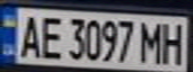0: (81, 16, 103, 62)
3: (63, 15, 87, 61)
7: (115, 17, 139, 63)
9: (100, 17, 121, 62)
A: (15, 11, 45, 60)
E: (36, 12, 63, 60)
H: (157, 19, 190, 65)
M: (136, 18, 166, 64)
